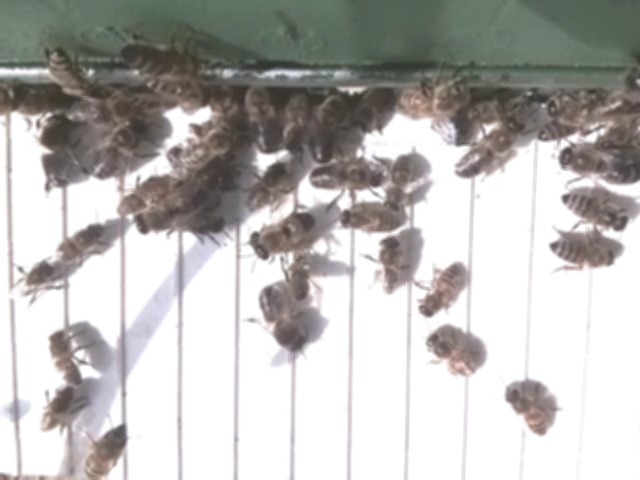Drone: (450, 113, 528, 183), (84, 117, 153, 184), (553, 143, 640, 189), (250, 209, 320, 264), (255, 283, 303, 356), (36, 111, 77, 195), (307, 158, 383, 195)
Worker: (79, 422, 131, 480), (558, 191, 627, 233), (500, 386, 551, 440), (242, 159, 292, 214), (423, 331, 477, 380), (44, 327, 86, 390), (51, 219, 106, 267), (418, 261, 463, 319), (542, 237, 618, 271), (35, 386, 78, 437), (382, 153, 417, 212), (335, 207, 403, 237), (10, 261, 56, 305), (374, 235, 404, 301)
